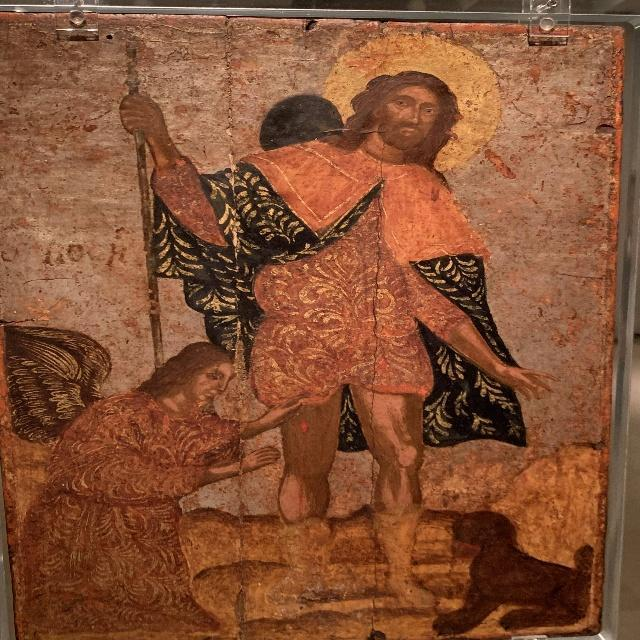angel: (15, 333, 252, 625)
aura: (327, 33, 502, 161)
scepter: (123, 36, 177, 363)
st_rokkos: (195, 33, 523, 592)
wing: (4, 317, 95, 446)
